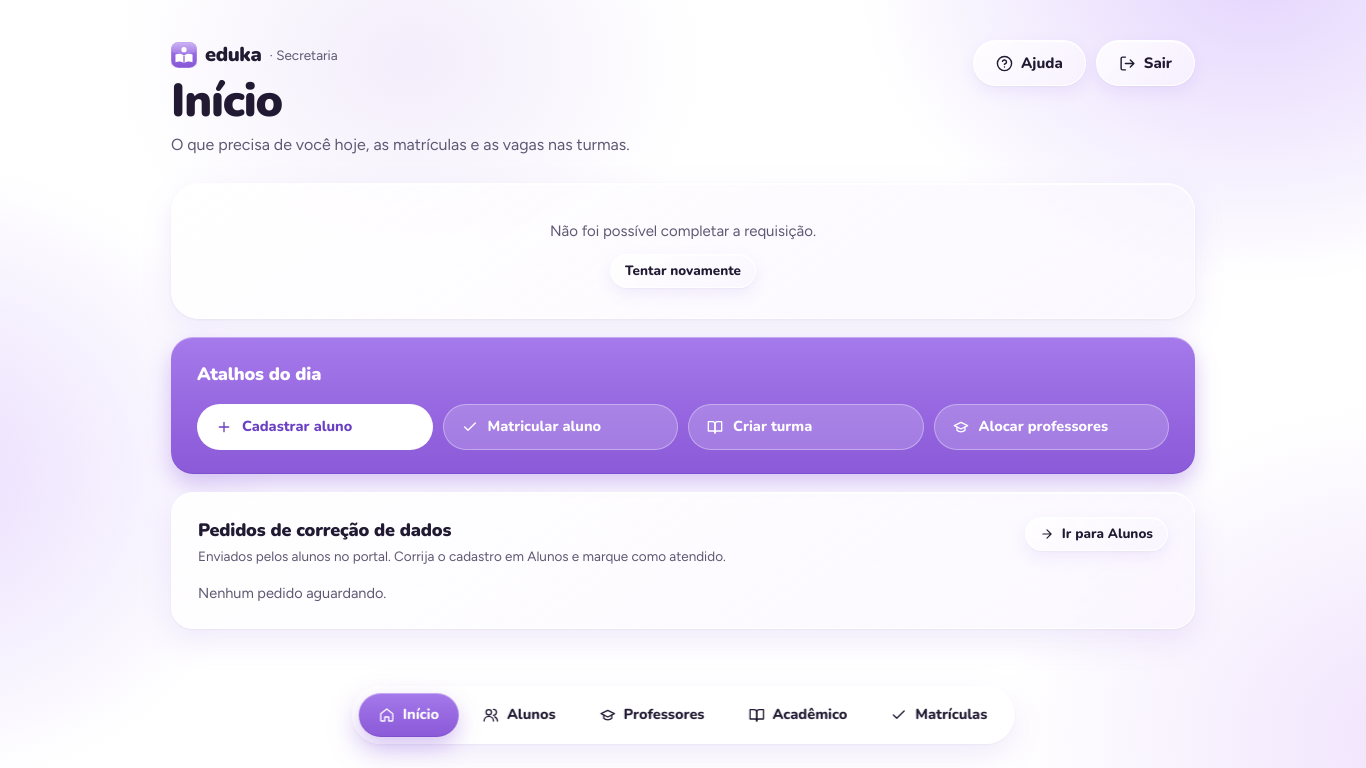
Scenario: Início da secretaria › erro ao carregar o resumo oferece tentar de novo, sem esconder os pedidos de correção
Expected: the text "Nenhum pedido aguardando." is shown, [198, 584, 386, 602]
Click the button "Tentar novamente" at (683, 271), box [610, 254, 756, 288]
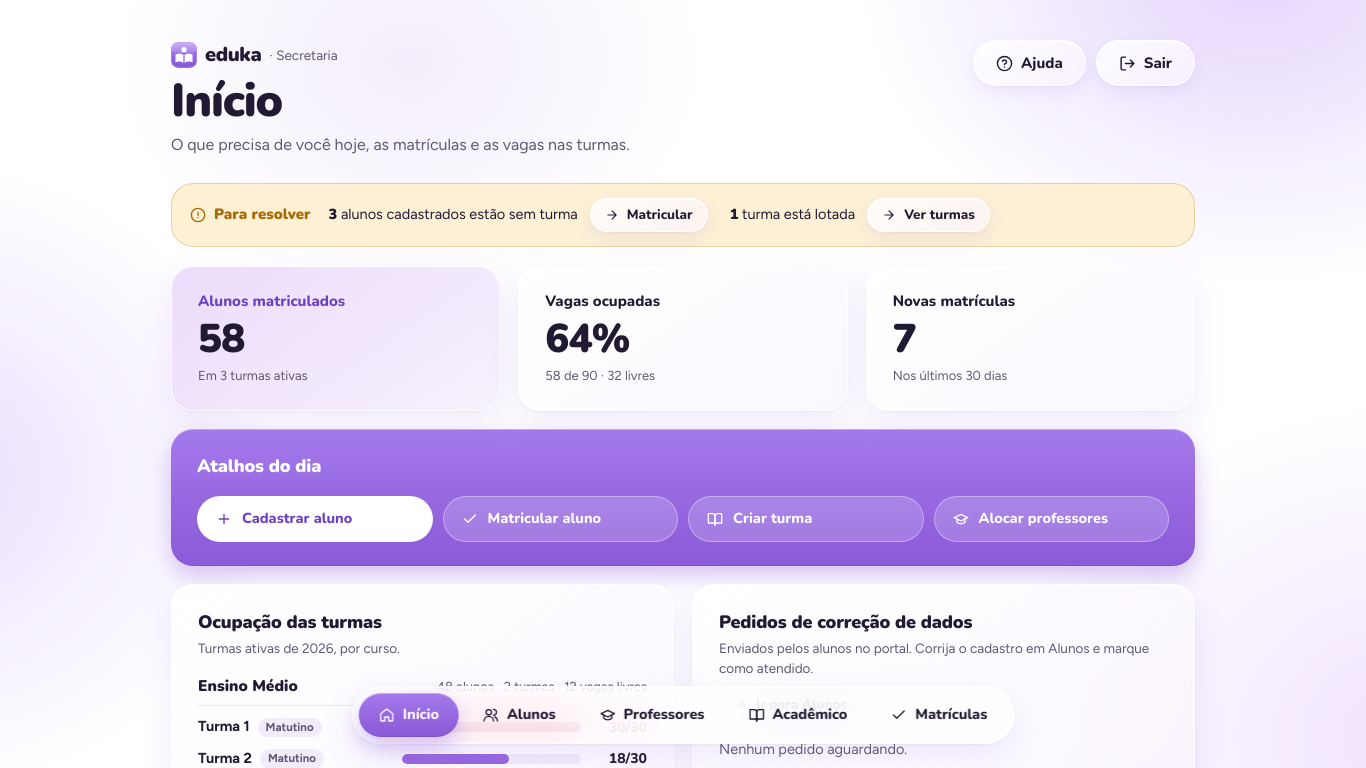
Result: the element named "Resumo de matrículas" is shown at [171, 265, 1195, 411]
